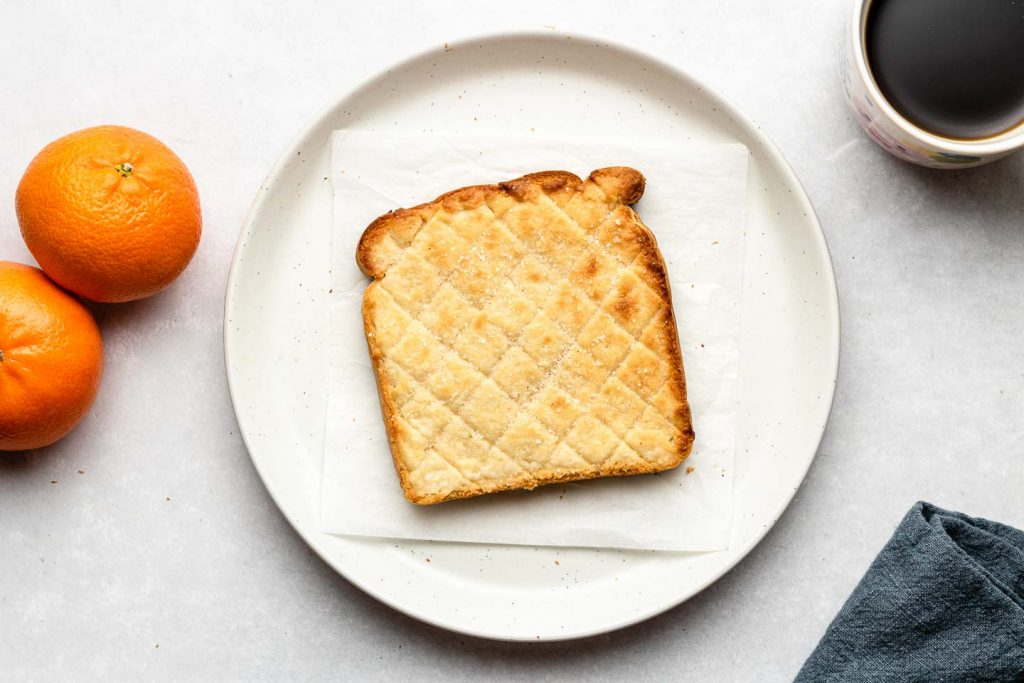Toast: (352, 164, 691, 507)
